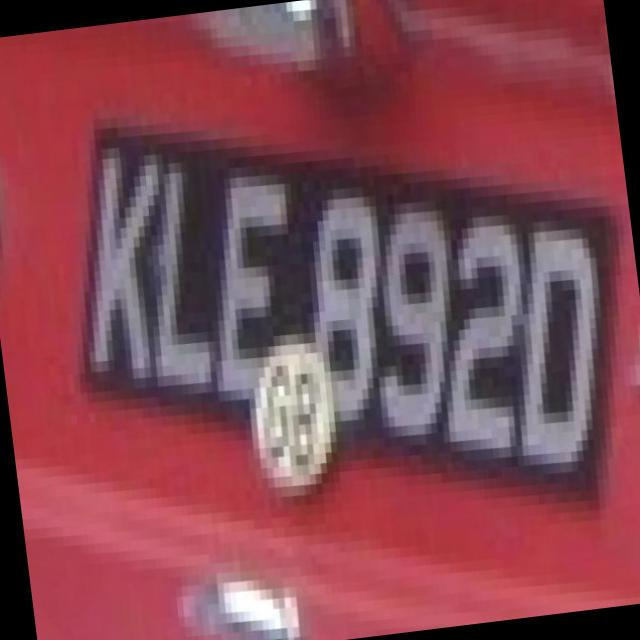LicensePlate: (45, 59, 640, 553)
